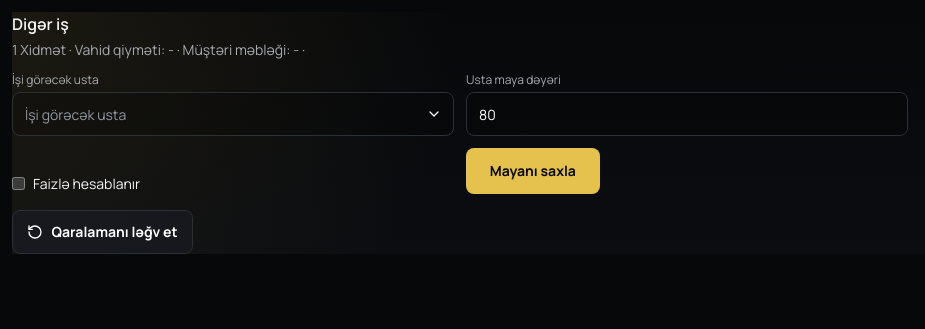
Test case: rejects a stale dropdown ID without overwriting the existing form values
The width and height of the screenshot is (925, 329).
Click the button "Mayanı saxla" at (533, 171), box [466, 148, 600, 194]
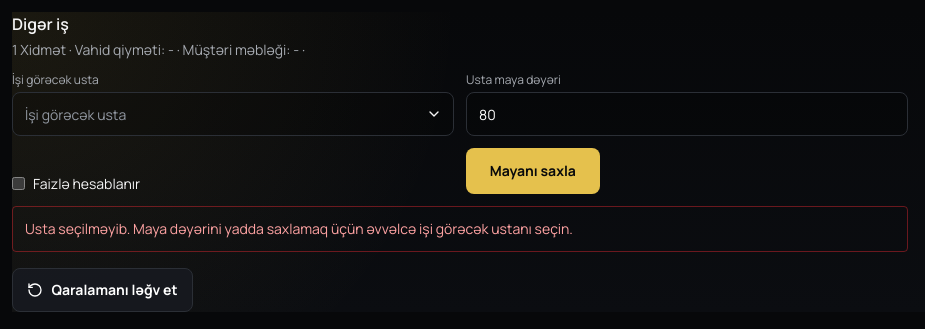
Check: the field labelled "Usta maya dəyəri" holds "80", box [466, 92, 908, 136]
Check: the message shows "Usta seçilməyib. Maya dəyərini yadda saxlamaq üçün əvvəlcə işi görəcək ustanı seçin.", box [25, 219, 573, 238]
